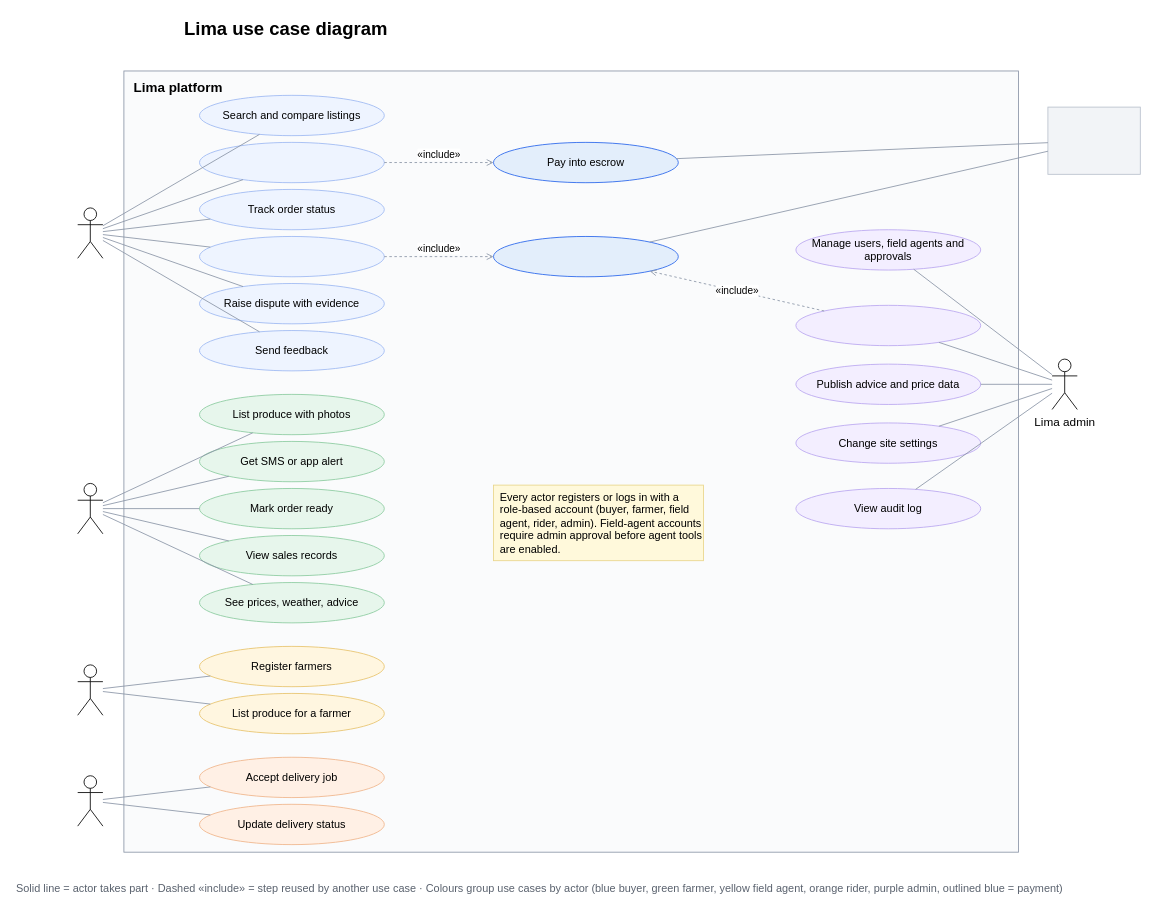
Some shapes in this 1155 by 915 pixel diagram are drawn without their labels. The shapes that lost their labels are listed below. From the top down, each one's centre as x and y in pixels, then its label:
point 1093,140: Pesapal mobile money / card (hosted checkout + IPN)
point 291,162: Place order
point 90,232: Buyer
point 291,256: Confirm receipt and rate
point 585,256: Release or refund payment
point 888,325: Review and decide dispute
point 90,508: Farmer
point 90,689: Field agent
point 90,800: Rider
